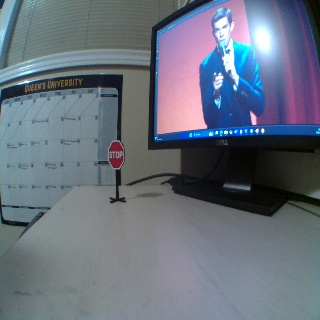sign_stop: (107, 140, 123, 168)
